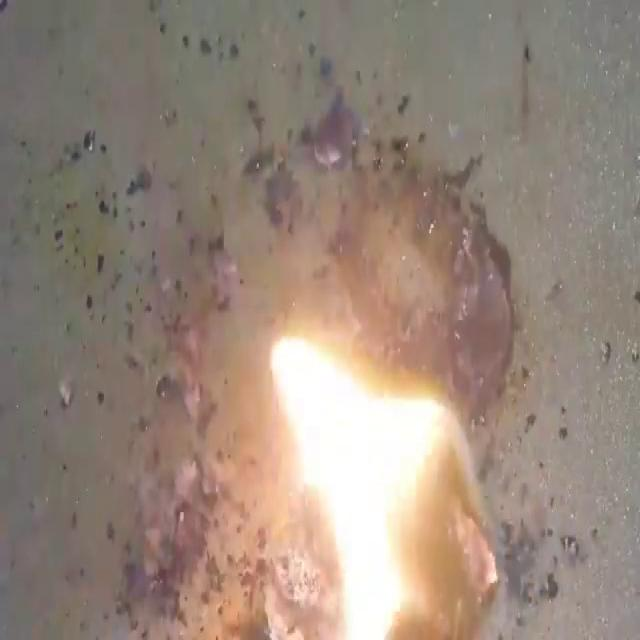Fire: (264, 327, 498, 638)
